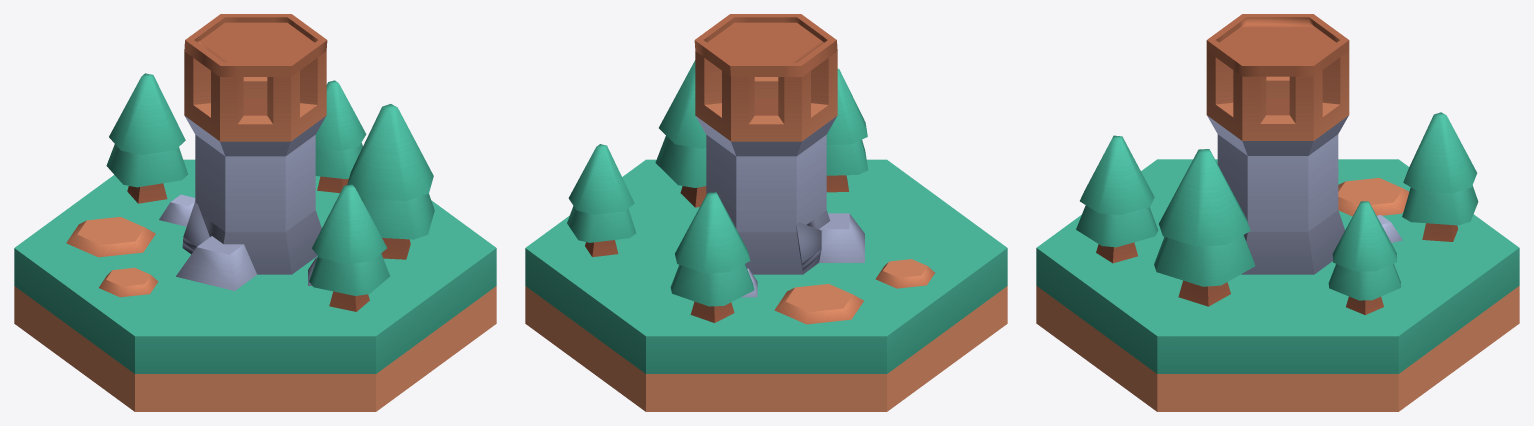
Rendered from Tower_Genaral.fbx.
The picture shows the model from 3 angles, left to right: view 1: azimuth 30°, elevation 25°; view 2: azimuth 150°, elevation 25°; view 3: azimuth 270°, elevation 25°; orthographic projection.
Visible parts, largest first — view 1: Tower_Genaral_New; view 2: Tower_Genaral_New; view 3: Tower_Genaral_New.
Boxes of the visible parts, <box> form: Tower_Genaral_New: <box>14,14,496,411</box>; Tower_Genaral_New: <box>525,14,1007,411</box>; Tower_Genaral_New: <box>1036,14,1519,411</box>.
Size of the model in its own units: 100 by 74.88 by 115.
